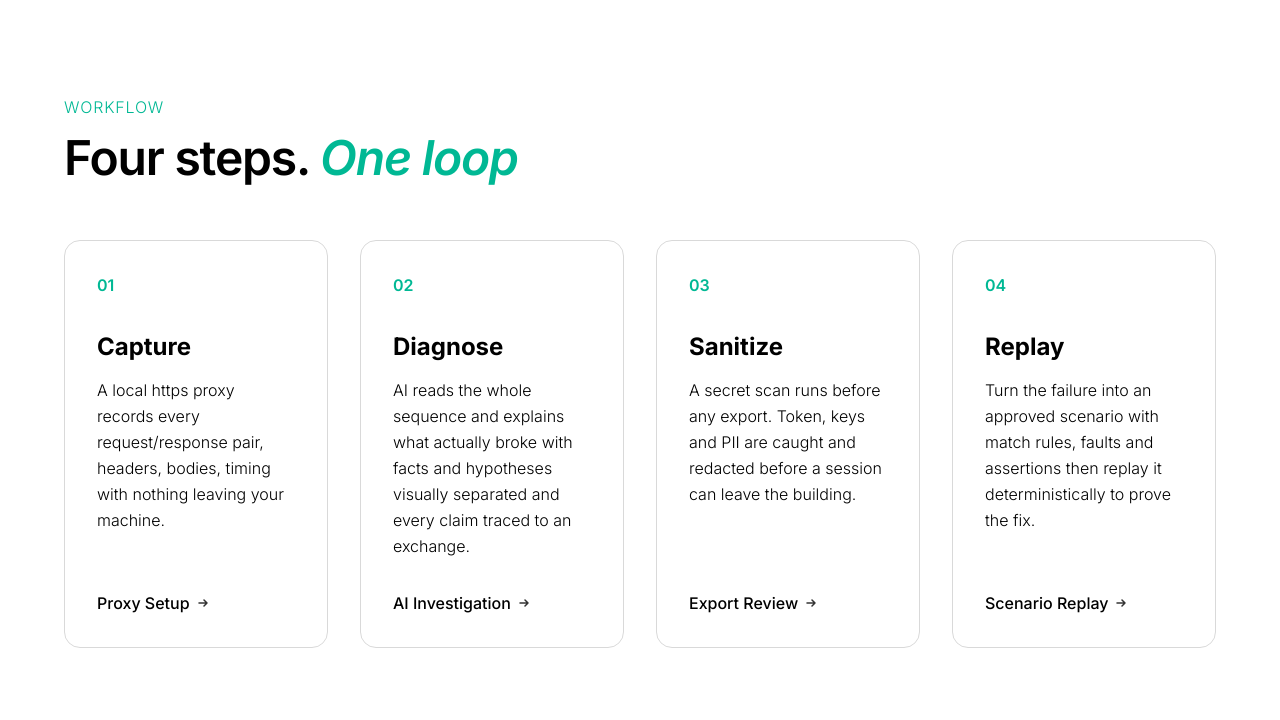
WorkflowSection › opens interactive preview modal when clicking a step card
Click the heading "Capture".
click(144, 347)  # box 97,332 -> 191,361
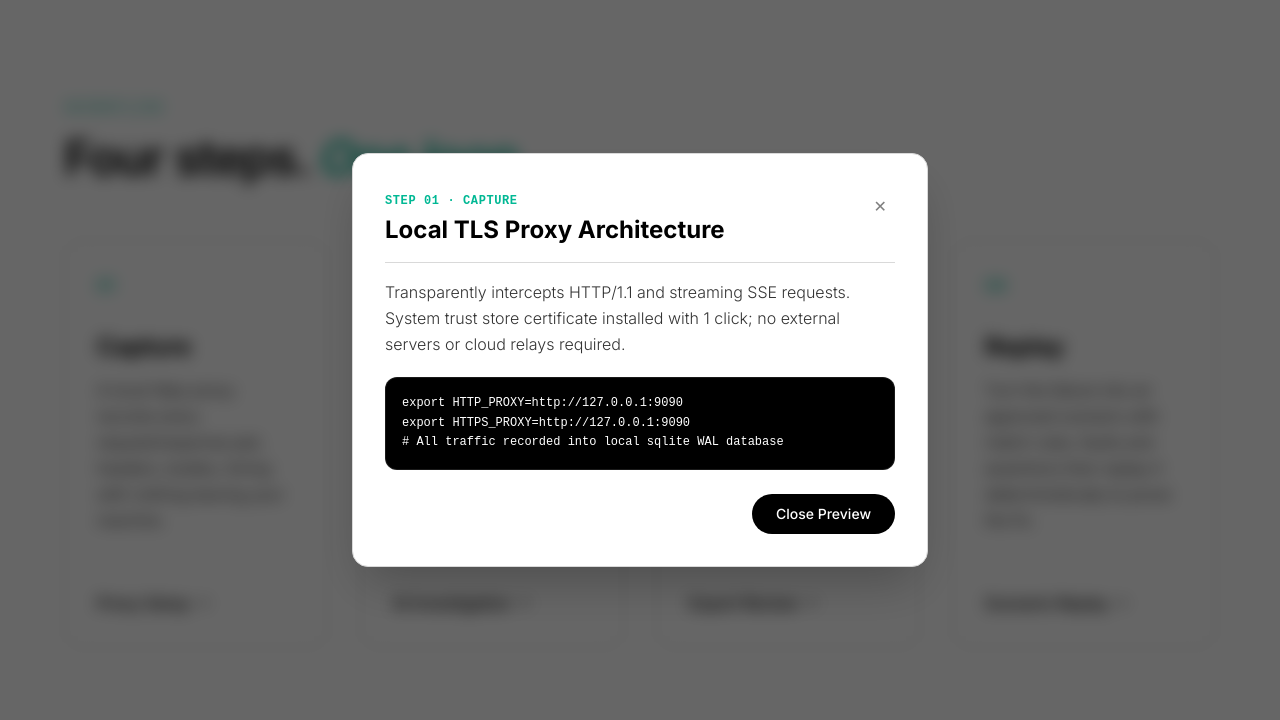
Check: the dialog is shown
Check: the heading "Local TLS Proxy Architecture" is shown, box 385,214 -> 725,246
Check: the text "export HTTP_PROXY=" is shown, box 402,396 -> 784,449
Click the button "Close Preview".
click(824, 514)  # box 752,494 -> 895,534
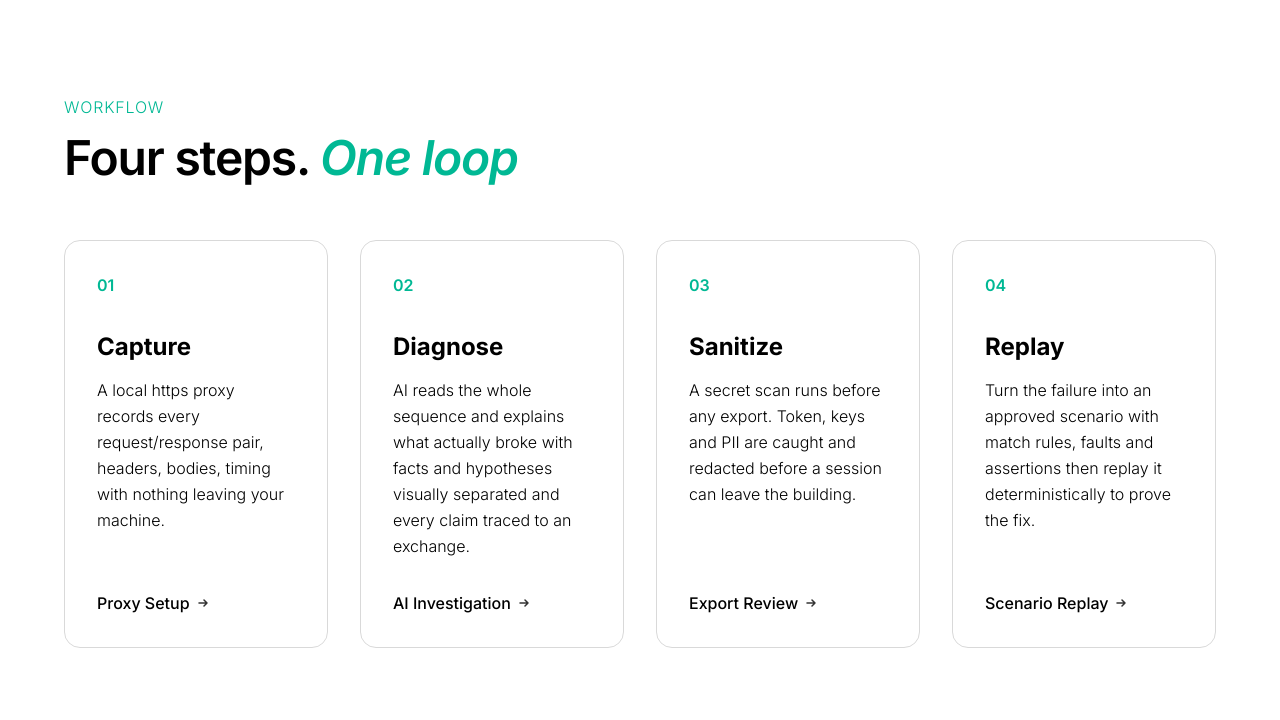
Check: the dialog is gone
